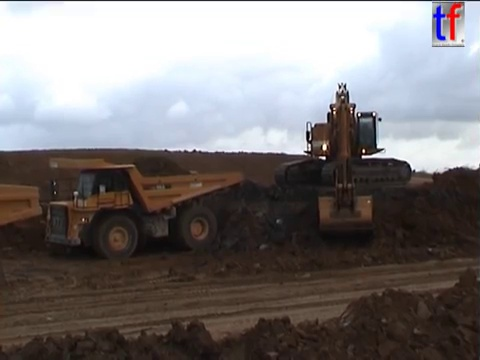excavator: (271, 78, 414, 242)
truck: (42, 155, 245, 262), (1, 180, 44, 229)
